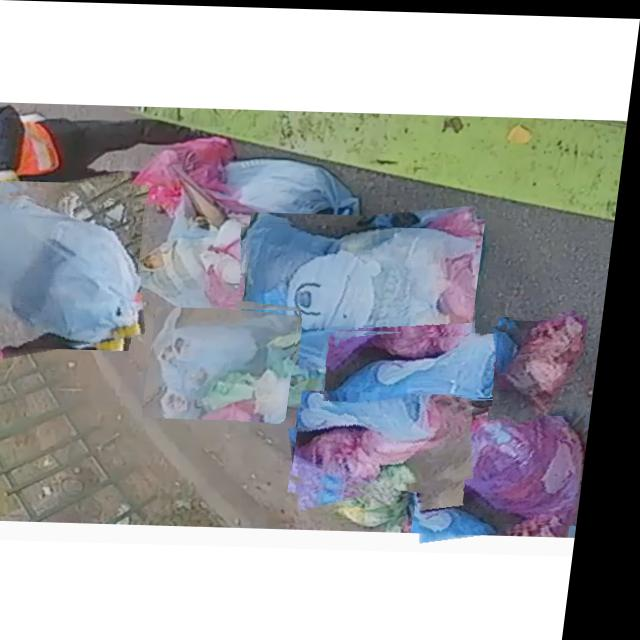other_trashbag: (251, 221, 482, 356), (335, 329, 521, 451), (0, 197, 147, 342), (434, 396, 593, 521), (307, 391, 468, 490), (162, 306, 305, 414), (505, 311, 590, 411)
